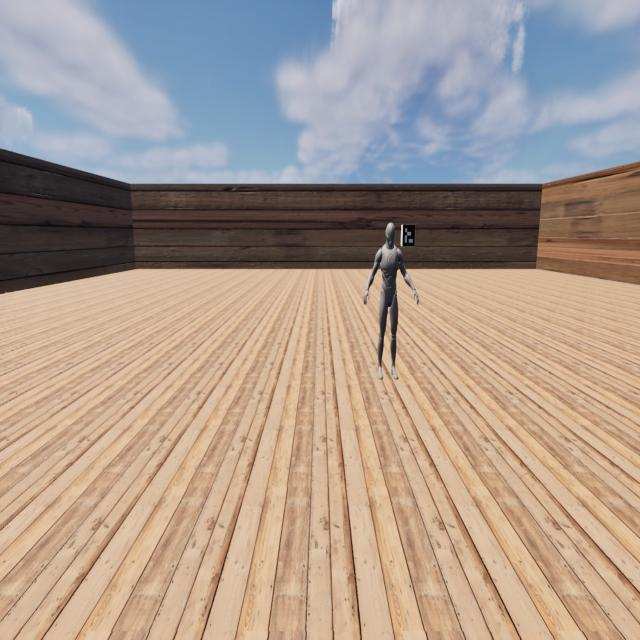aruco: (403, 224, 415, 247)
hip: (380, 289, 397, 298)
